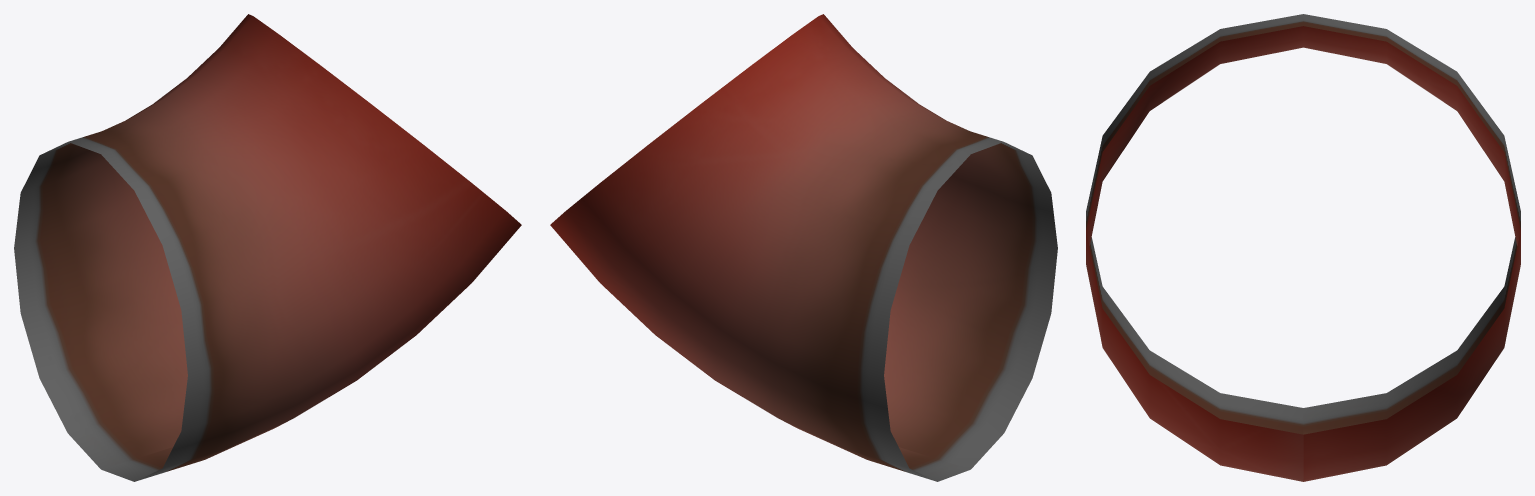
File: pipe01_crn_16a.fbx
The picture shows the model from 3 angles, left to right: view 1: azimuth 30°, elevation 25°; view 2: azimuth 150°, elevation 25°; view 3: azimuth 270°, elevation 25°; orthographic projection. The views are drawn at different scales.
Parts seen in each view (by area): view 1: pipe01_crn_16a; view 2: pipe01_crn_16a; view 3: pipe01_crn_16a.
Part boxes in pixels (bbox=[...]): pipe01_crn_16a: bbox=[14, 14, 521, 481]; pipe01_crn_16a: bbox=[550, 14, 1057, 481]; pipe01_crn_16a: bbox=[1086, 14, 1520, 481].
Bounding box in the file's own units: 15.56 × 14.93 × 12.
